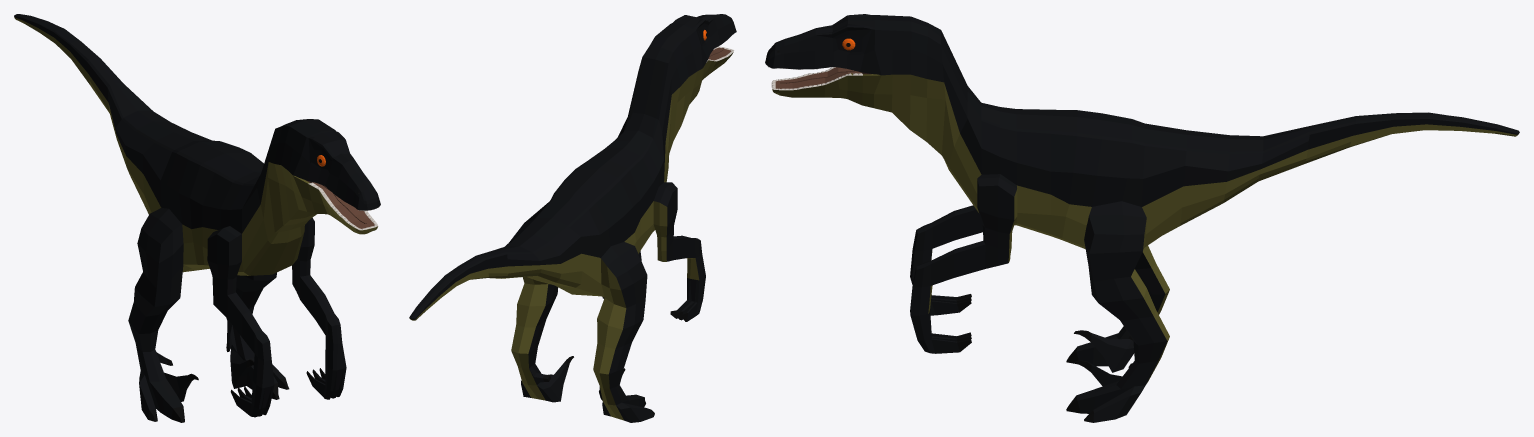
Rendered from velociraptor.obj.
3 views of the same model, side by side, from view 1: azimuth 30°, elevation 25°; view 2: azimuth 150°, elevation 25°; view 3: azimuth 270°, elevation 25° (orthographic). The views are drawn at different scales.
Visible parts, largest first — view 1: Plane; view 2: Plane; view 3: Plane.
Part boxes in pixels (x1=…): Plane: x1=14, y1=14, x2=380, y2=422; Plane: x1=409, y1=14, x2=736, y2=422; Plane: x1=765, y1=14, x2=1519, y2=422.
Size of the model in its own units: 0.9924 by 2.35 by 4.38.
